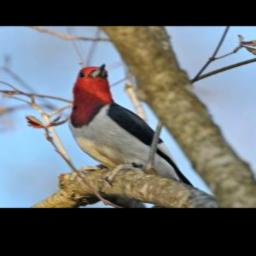Woodpecker: (62, 56, 203, 202)
